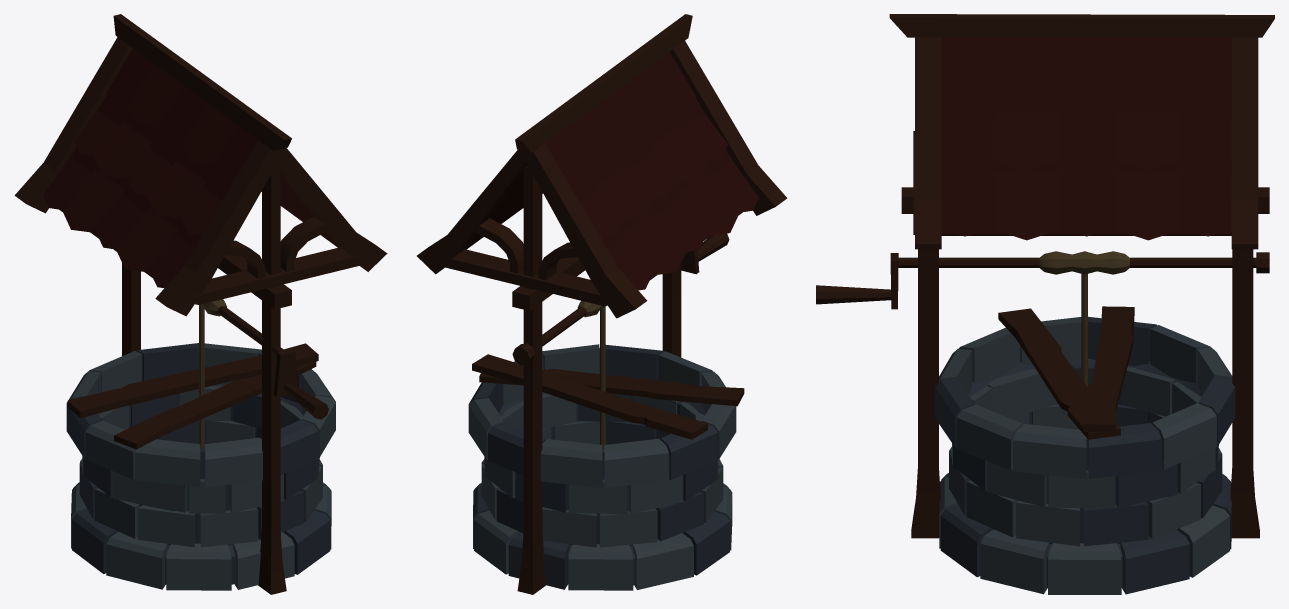
Rendered from Well.obj.
The picture shows the model from 3 angles, left to right: view 1: azimuth 30°, elevation 25°; view 2: azimuth 150°, elevation 25°; view 3: azimuth 270°, elevation 25°; orthographic projection. The views are drawn at different scales.
Visible parts, largest first — view 1: Well_Cube.274; view 2: Well_Cube.274; view 3: Well_Cube.274.
Boxes of the visible parts, x1=… form: Well_Cube.274: x1=14, y1=14, x2=387, y2=594; Well_Cube.274: x1=417, y1=14, x2=787, y2=594; Well_Cube.274: x1=816, y1=14, x2=1274, y2=594.
Size of the model in its own units: 0.6664 by 1.25 by 1.
